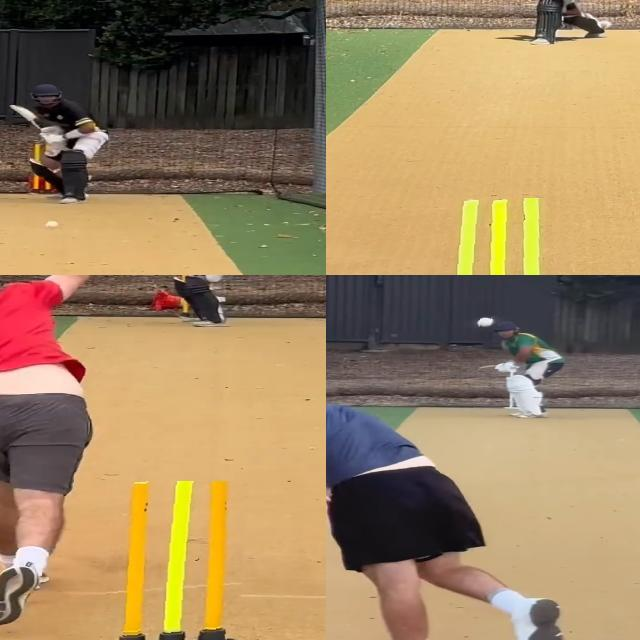Cricket ball: (474, 316, 498, 329), (42, 219, 60, 230)
Stumps: (105, 481, 248, 640), (441, 197, 565, 275)
